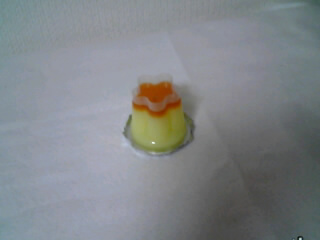001_classes: (114, 70, 213, 166)
